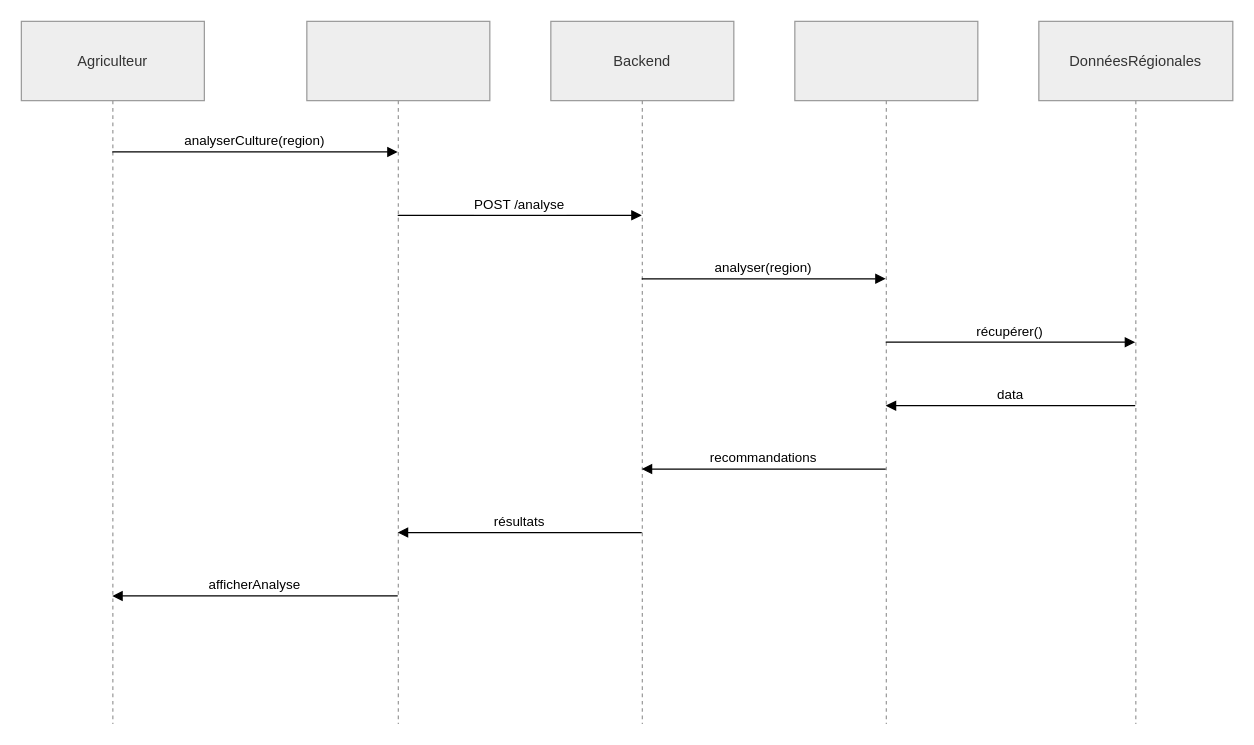
Image size: 1254x745. Some labels were removed from this diagram. The box of each missing label's shape, as (x1, y1, x2, y2) in pixels:
Frontend: (306, 20, 490, 724)
Systeme: (794, 20, 978, 724)
